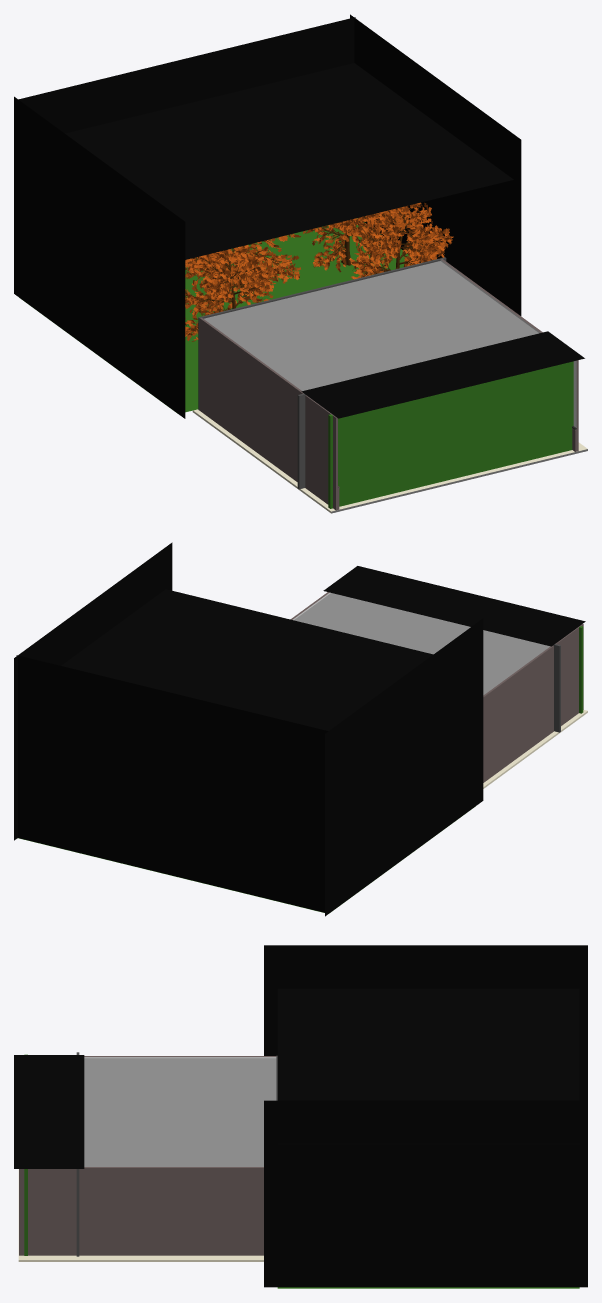
The model's file is TeamSoftwareEngeneerMapv2.fbx.
3 renders of one model, top to bottom at view 1: azimuth 30°, elevation 25°; view 2: azimuth 150°, elevation 25°; view 3: azimuth 270°, elevation 25°, orthographic. The views are drawn at different scales.
Visible parts, largest first — view 1: OutSideroof, OutSideWall1, Roof, RommWall(outside), OutSideWall3, OutSideWall2, Leftwall, Plane006, OutSidefloor, Foliage003, Foliage004, Floor (+5 smaller); view 2: OutSideWall2, OutSideWall1, OutSideroof, Leftwall, Plane006, Roof, OutSideWall3, Floor, RoomWall1; view 3: OutSideWall3, OutSideroof, Leftwall001, Roof, OutSideWall1, Plane006, Floor, OutSidefloor, Leftwall.
Boxes of the visible parts, box(x1,y1,x2,y2) form: OutSideroof: box(65, 63, 513, 259); OutSideWall1: box(14, 96, 185, 418); Roof: box(204, 261, 538, 390); RommWall(outside): box(328, 361, 573, 508); OutSideWall3: box(350, 14, 521, 315); OutSideWall2: box(18, 17, 355, 133); Leftwall: box(200, 318, 339, 510); Plane006: box(301, 331, 584, 418); OutSidefloor: box(23, 218, 410, 413); Foliage003: box(185, 245, 282, 341); Foliage004: box(346, 202, 453, 279); Floor: box(192, 409, 587, 513); OutSideWall2: box(16, 655, 328, 912); OutSideWall1: box(325, 618, 483, 916); OutSideroof: box(61, 589, 433, 730); Leftwall: box(483, 624, 583, 782); Plane006: box(323, 566, 585, 646); Roof: box(294, 593, 549, 695); OutSideWall3: box(14, 542, 172, 840); Floor: box(483, 710, 587, 788); RoomWall1: box(553, 644, 560, 732); OutSideWall3: box(264, 1100, 587, 1287); OutSideroof: box(277, 988, 579, 1144); Leftwall001: box(19, 1167, 263, 1255); Roof: box(84, 1058, 276, 1166); OutSideWall1: box(264, 945, 587, 1100); Plane006: box(14, 1055, 84, 1168); Floor: box(18, 1169, 263, 1261); OutSidefloor: box(277, 1287, 579, 1288); Leftwall: box(84, 1056, 276, 1058).
Bounding box in the file's own units: 8065 × 4590 × 12553.
